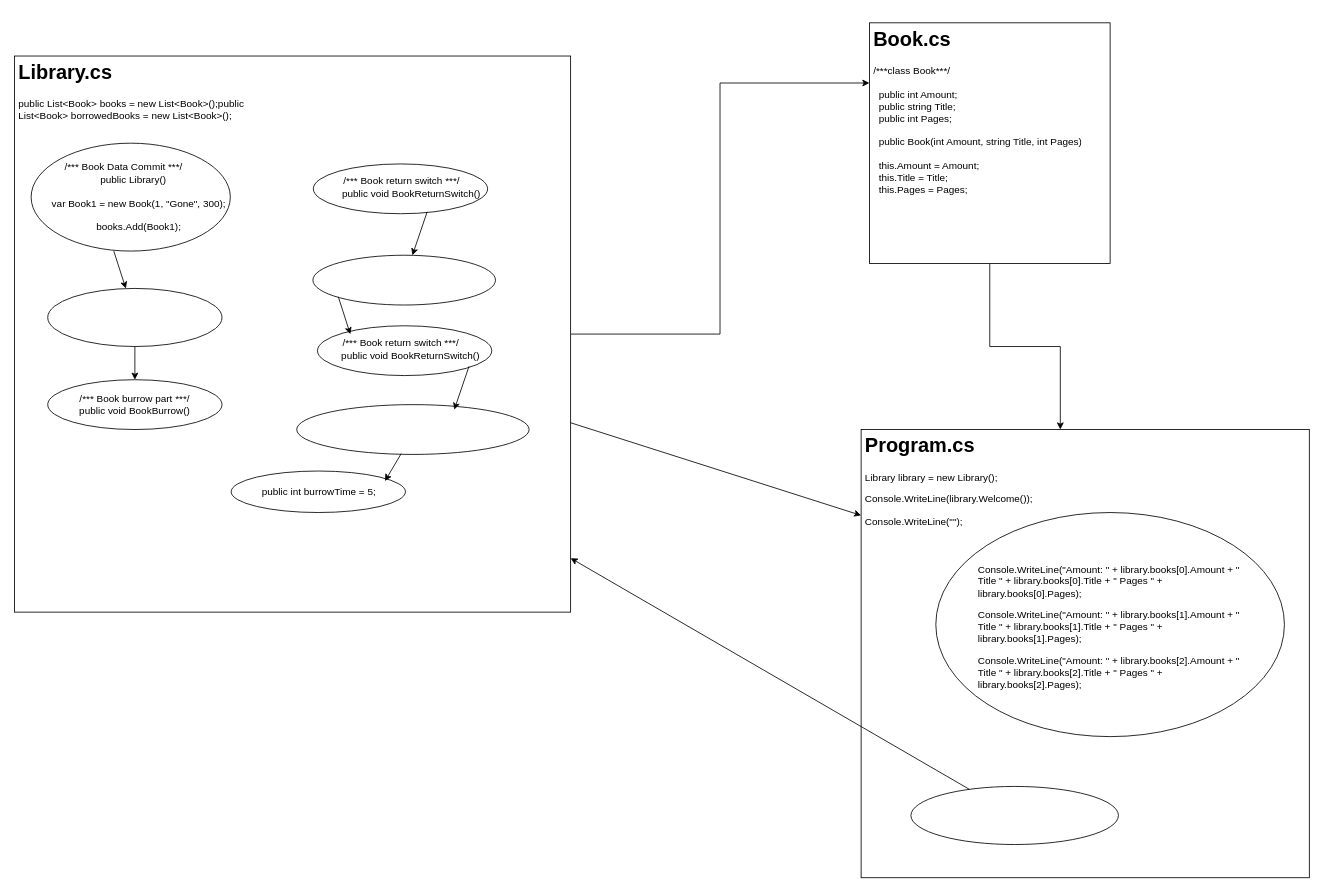
Some shapes in this 1324 by 892 pixel diagram are drawn without their labels. The shapes that lost their labels are listed below. From the top down, each one's centre as x and y in pixels, then its label:
the point at 404,279: /*** Book return part ***/ public void BookReturn()
the point at 134,317: /*** Book burrow Switch ***/ public void BookBurrowSwitch()
the point at 412,429: /*** Burrow time extend switch ***/ public void ExtendBurrowTimeSwitch()
the point at 1014,815: library.BookBurrowSwitch(); ibrary.BookReturnSwitch();
